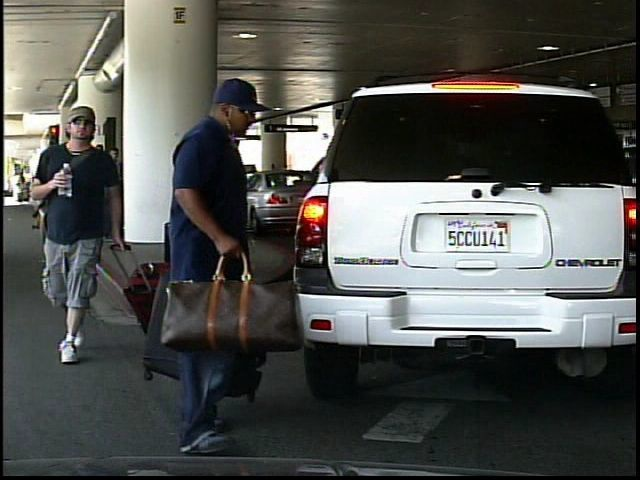person: (156, 74, 288, 451), (35, 102, 125, 365), (163, 130, 227, 272)
